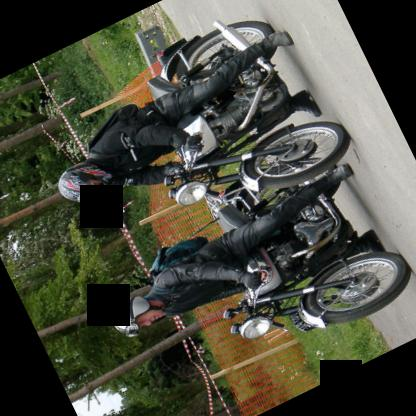backpack: (85, 101, 139, 174), (147, 232, 209, 280)
